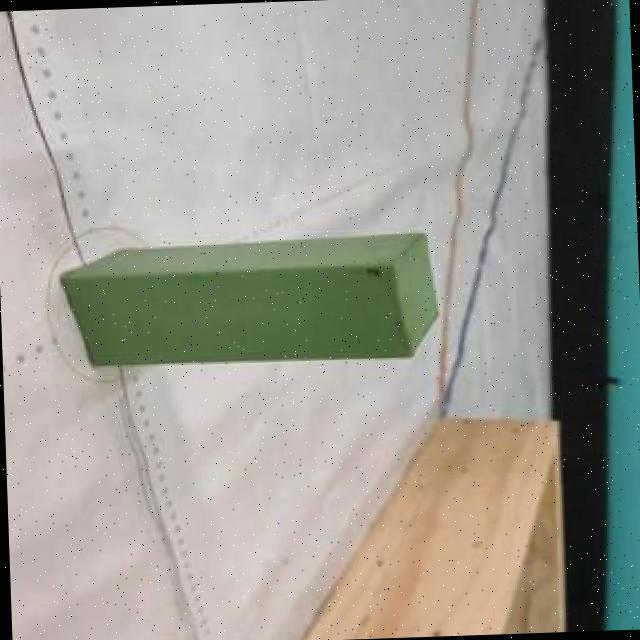greenbox: (55, 233, 444, 376)
